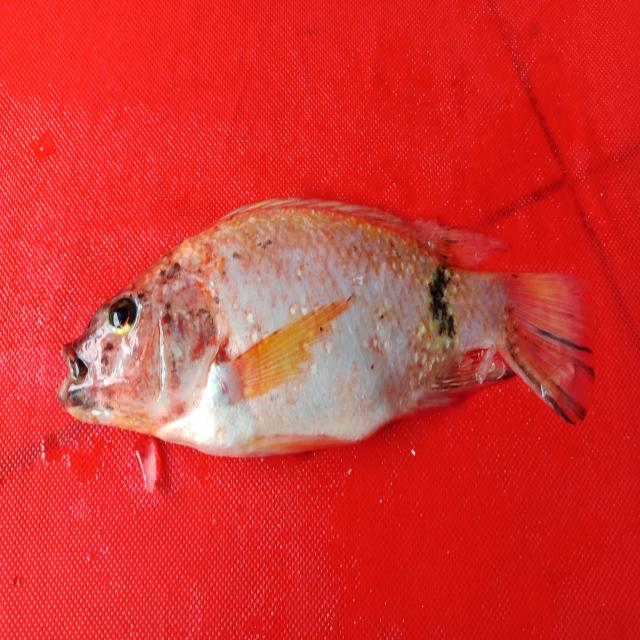ikan: (56, 194, 596, 463)
